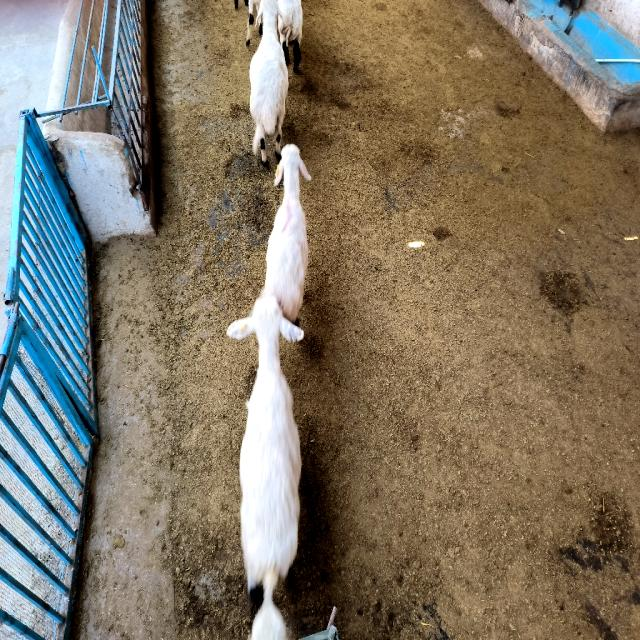sheep: (228, 297, 303, 592), (261, 145, 311, 323), (250, 0, 289, 164), (278, 0, 302, 71), (245, 0, 261, 46)
